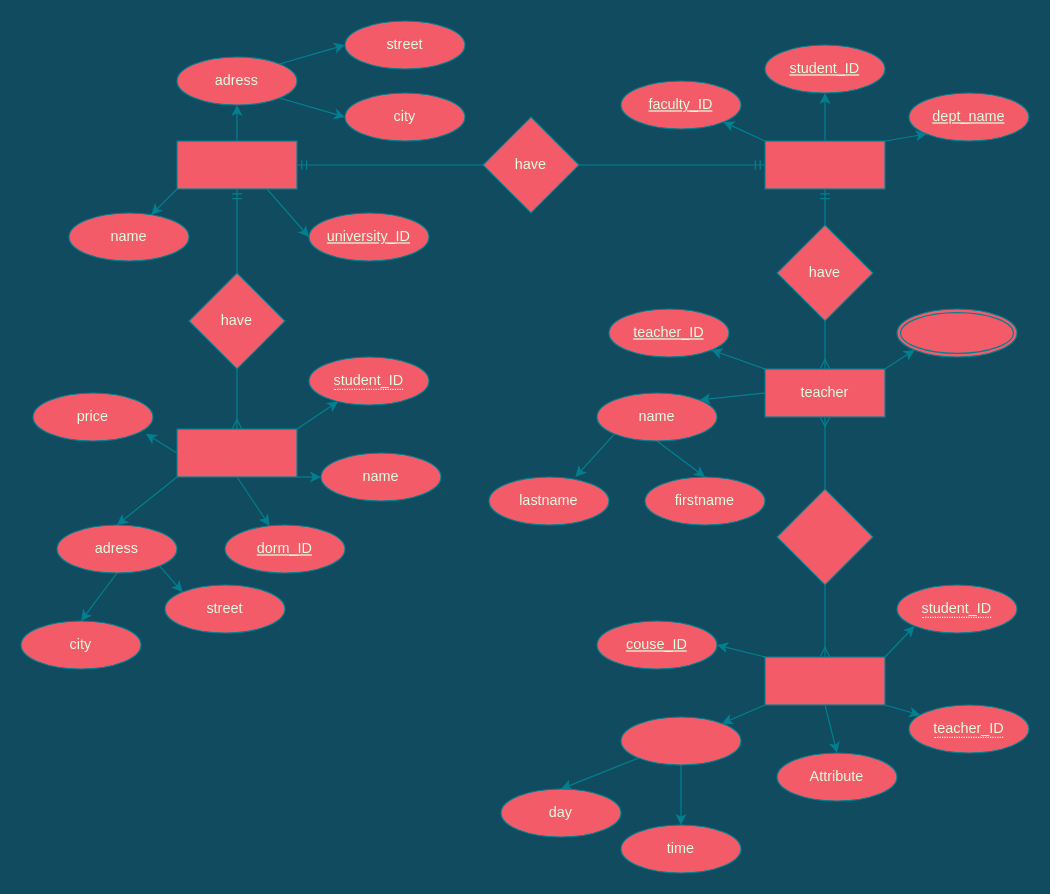
Image size: 1050x894. Some labels were removed from this diagram. The box of each missing label's shape, as (x1, y1, x2, y2) in pixels:
course: (764, 656, 885, 705)
dormitory: (176, 428, 297, 477)
number: (896, 308, 1017, 357)
office_of_register: (764, 140, 885, 189)
schedule: (620, 716, 741, 765)
teaches: (776, 488, 873, 585)
university: (176, 140, 297, 189)
